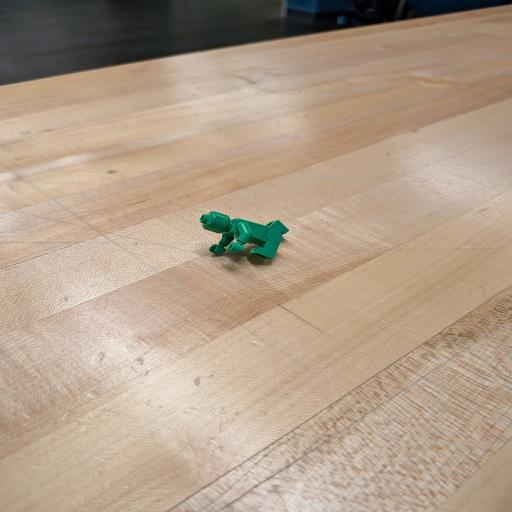Minifig: (200, 211, 289, 259)
